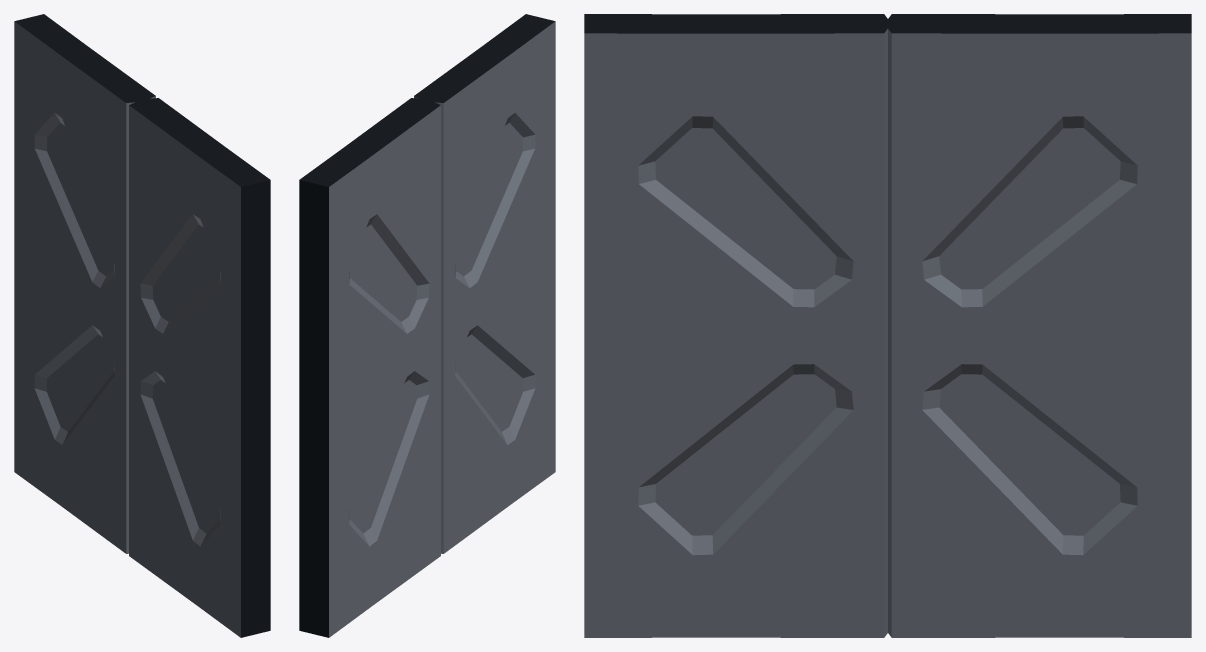
File: sm_Door_A_03.fbx
The picture shows the model from 3 angles, left to right: view 1: azimuth 30°, elevation 25°; view 2: azimuth 150°, elevation 25°; view 3: azimuth 270°, elevation 25°; orthographic projection. The views are drawn at different scales.
Visible parts, largest first — view 1: Door_A_03_R, Door_A_03_L; view 2: Door_A_03_L, Door_A_03_R; view 3: Door_A_03_L, Door_A_03_R.
Part boxes in pixels (bbox=[...]): Door_A_03_R: bbox=[129, 98, 270, 637]; Door_A_03_L: bbox=[14, 14, 155, 553]; Door_A_03_L: bbox=[299, 98, 440, 637]; Door_A_03_R: bbox=[414, 14, 555, 553]; Door_A_03_L: bbox=[888, 14, 1191, 637]; Door_A_03_R: bbox=[584, 14, 887, 637].
Bounding box in the file's own units: 160 × 176 × 12.1.
